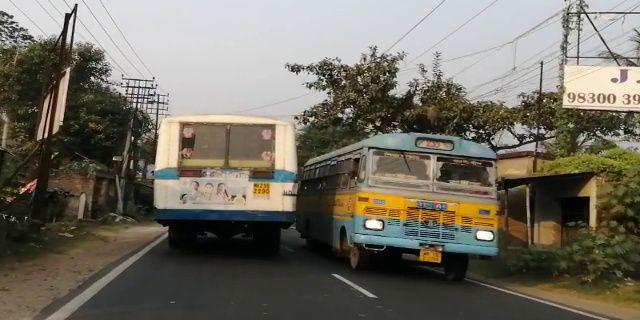Bus: (298, 130, 498, 281), (148, 108, 300, 259)
